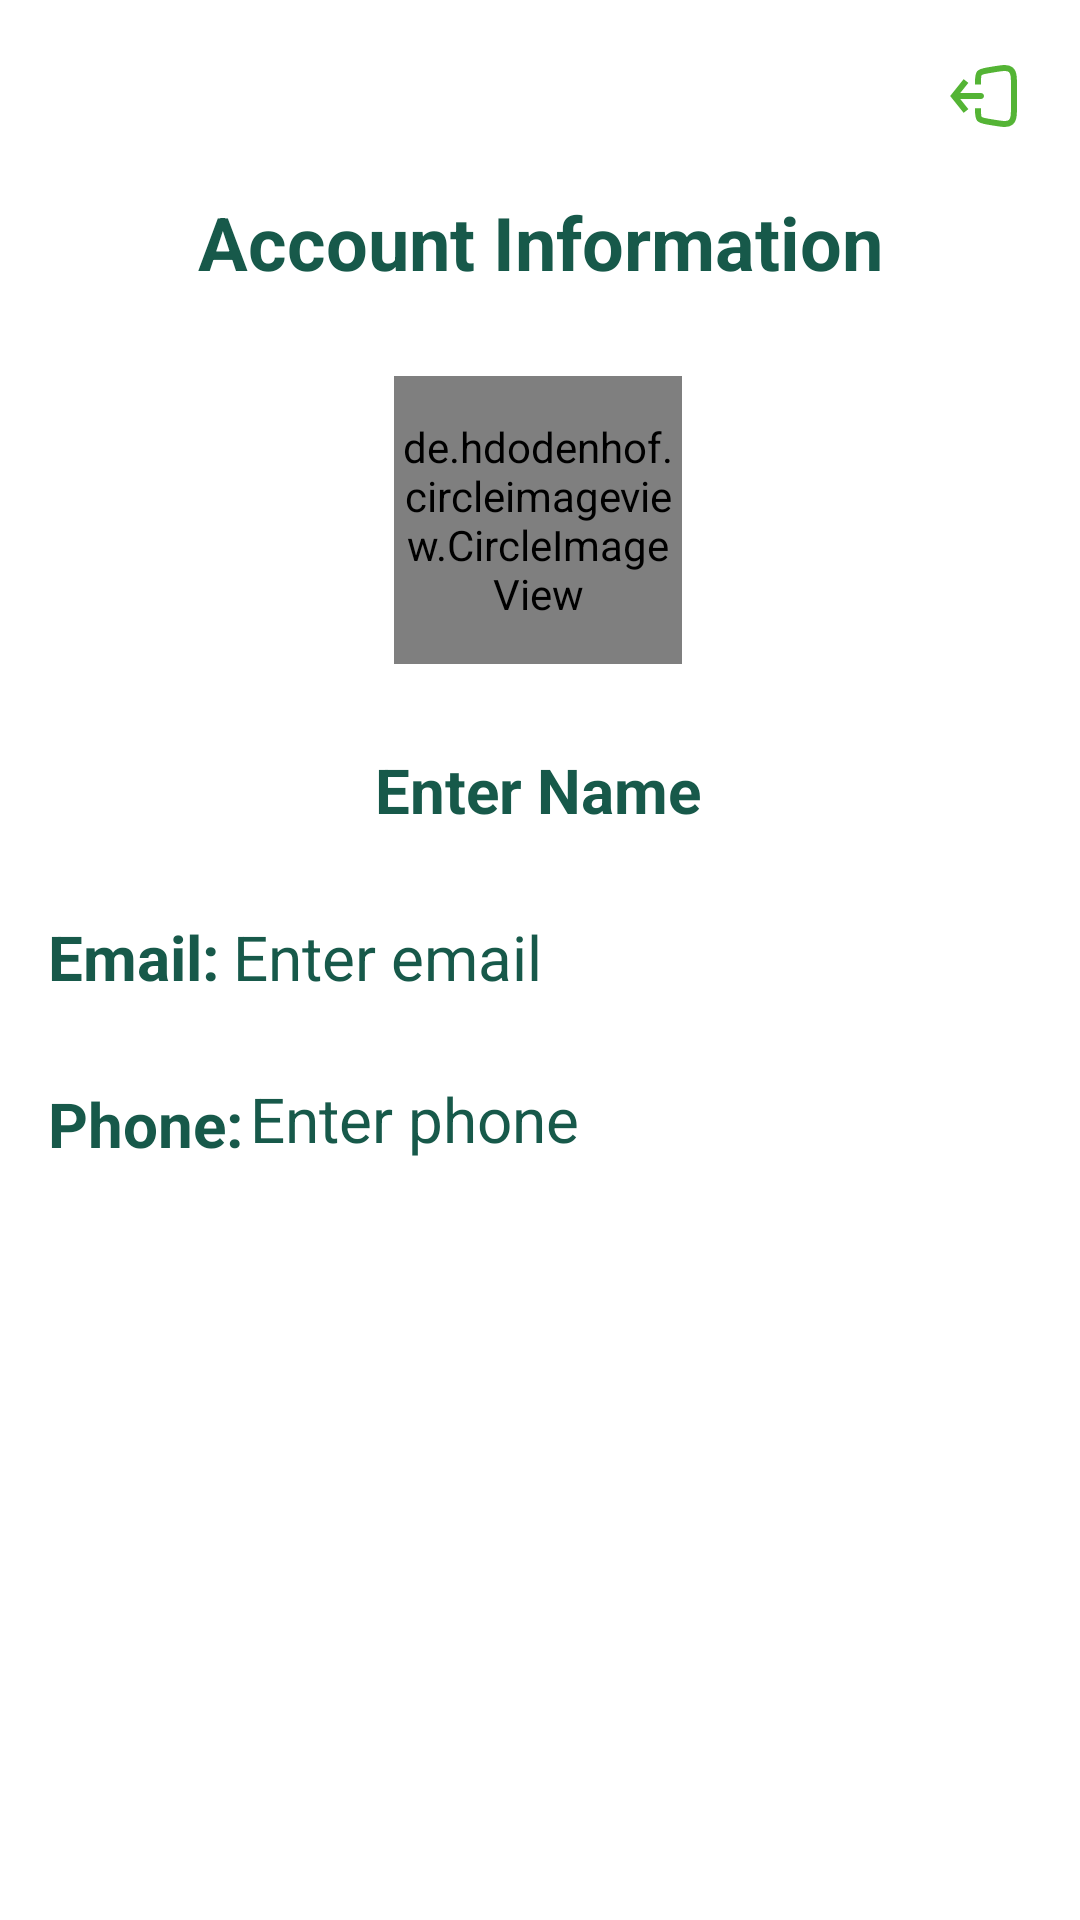

Screen size 1080 x 1920. Icon name, then its box in pixels as (x1,y1,x2,y2):
sign out squre: (950,65,1017,127)
